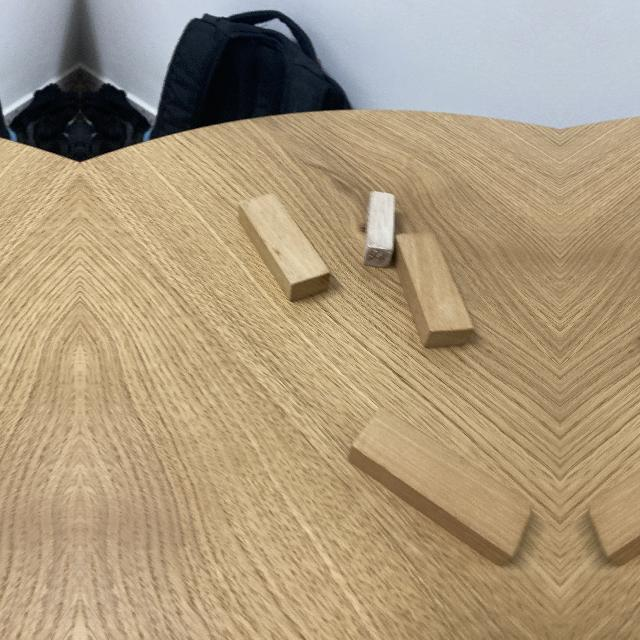jenga: (349, 407, 533, 567), (238, 194, 331, 303), (395, 232, 475, 351), (587, 470, 640, 567)
red block: (364, 192, 395, 268)
